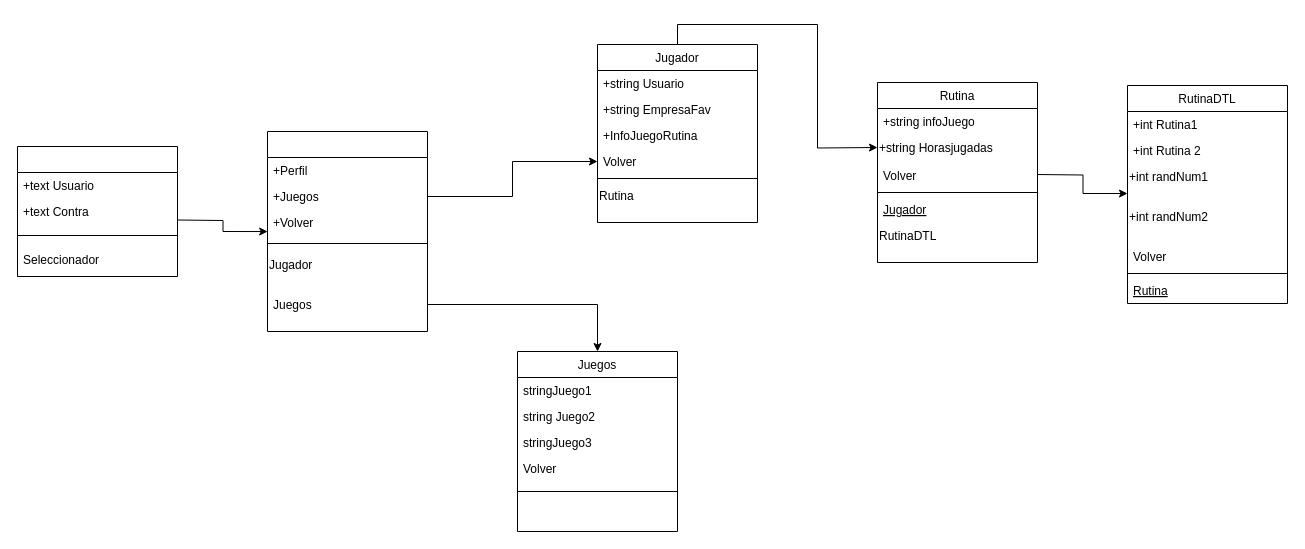
Some shapes in this 1305 by 549 pixel diagram are drawn without their labels. Here are the shapes that lost their labels. From the top down, the box of each, then its label:
(16, 146, 178, 276): Inicio App
(266, 130, 428, 332): Menu
